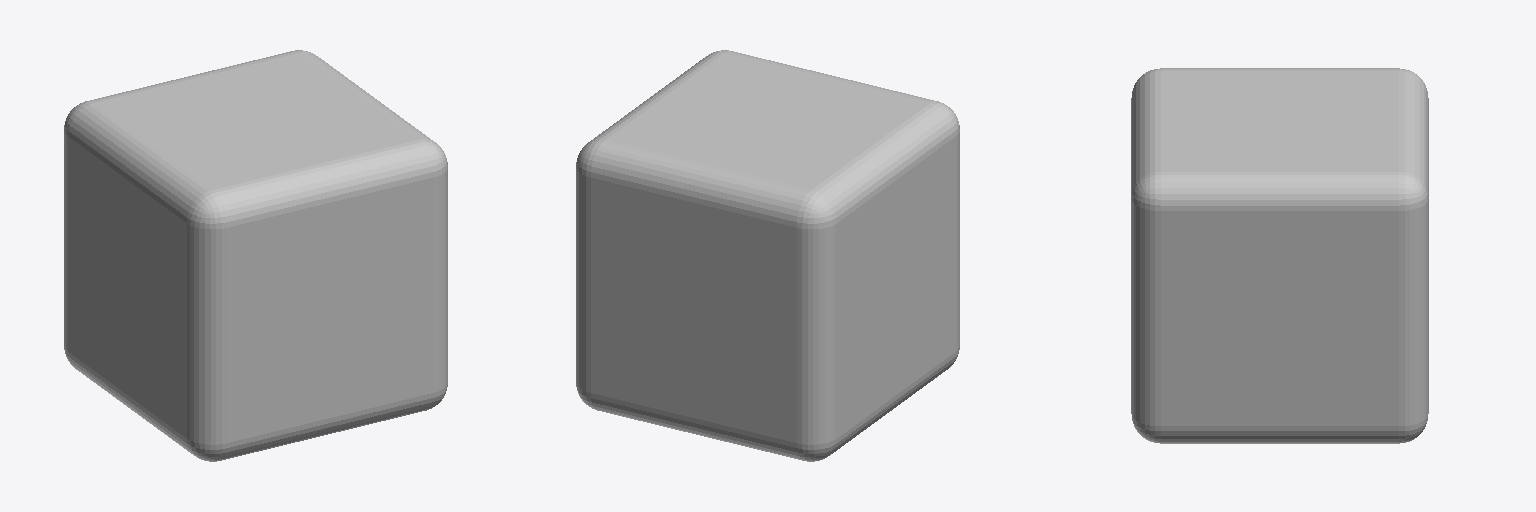
The model's file is roundedCube.obj.
The picture shows the model from 3 angles: view 1: azimuth 30°, elevation 25°; view 2: azimuth 150°, elevation 25°; view 3: azimuth 270°, elevation 25°; orthographic projection.
Visible parts, largest first — view 1: Cube; view 2: Cube; view 3: Cube.
Part boxes in pixels (left/top/right/bottom): Cube: left=64, top=50, right=447, bottom=461; Cube: left=576, top=50, right=959, bottom=461; Cube: left=1131, top=68, right=1428, bottom=443.
Bounding box in the file's own units: 1 × 1 × 1.